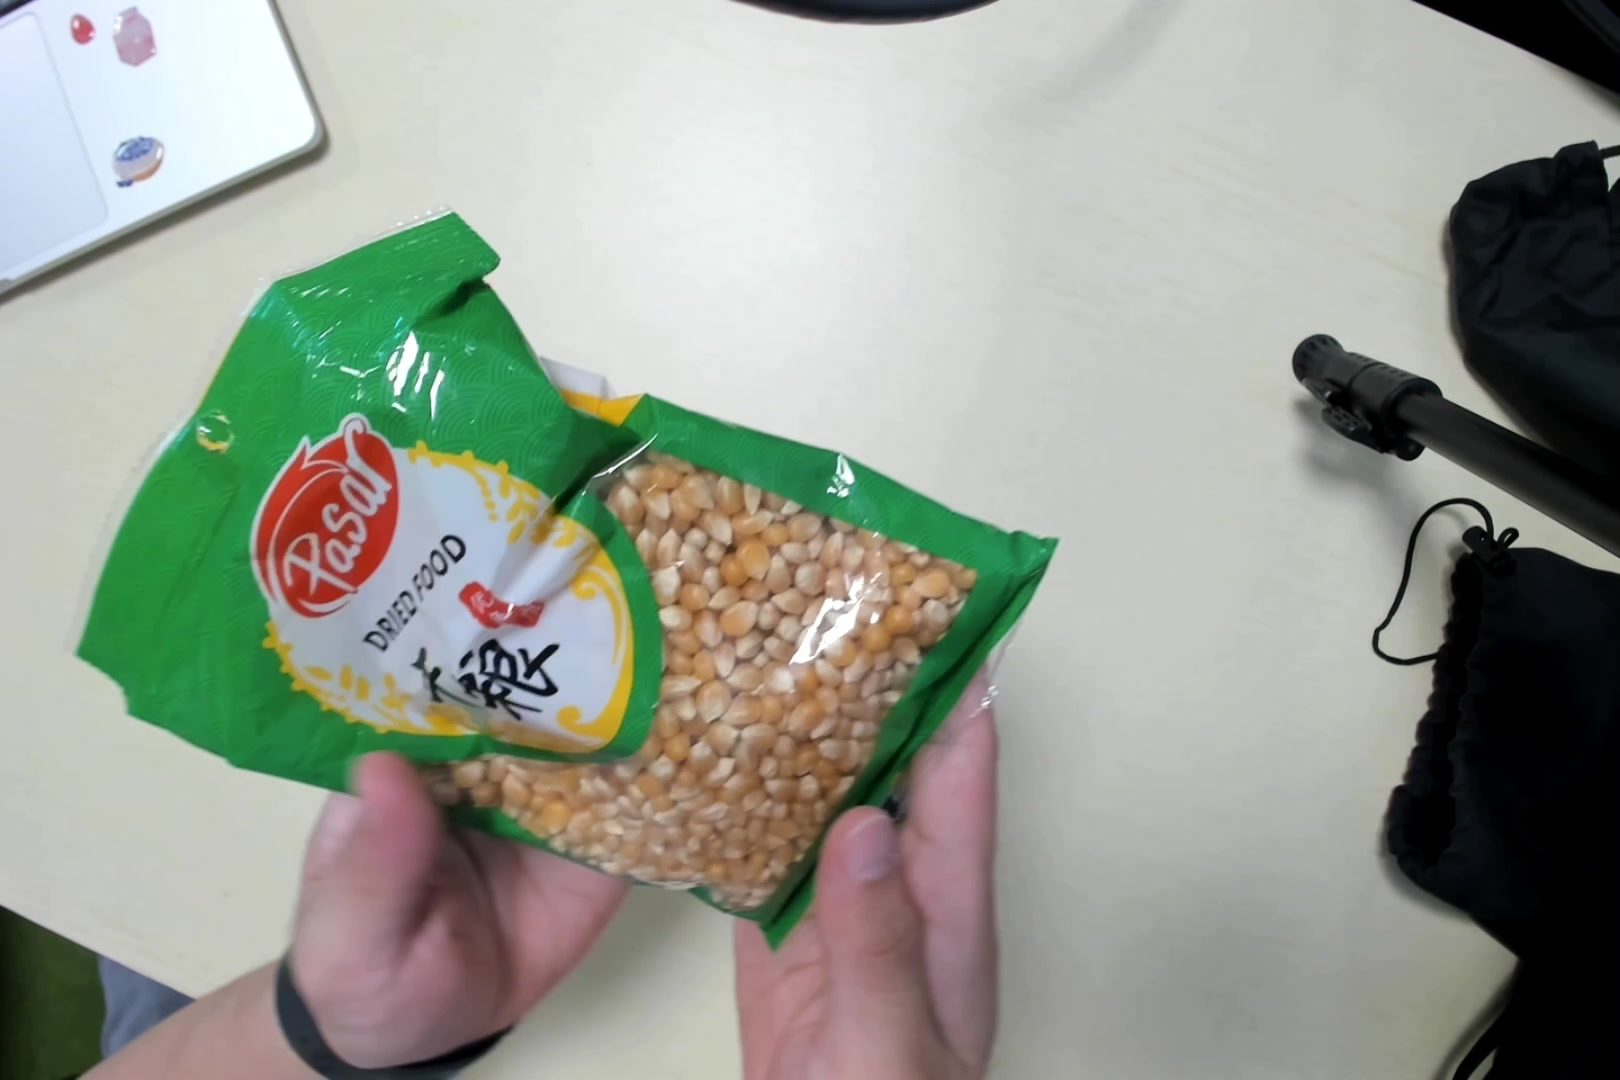DriedBeans(RedGreenSdy)_400-499g_NonHalal_NonHealthy: (111, 210, 1060, 944)
